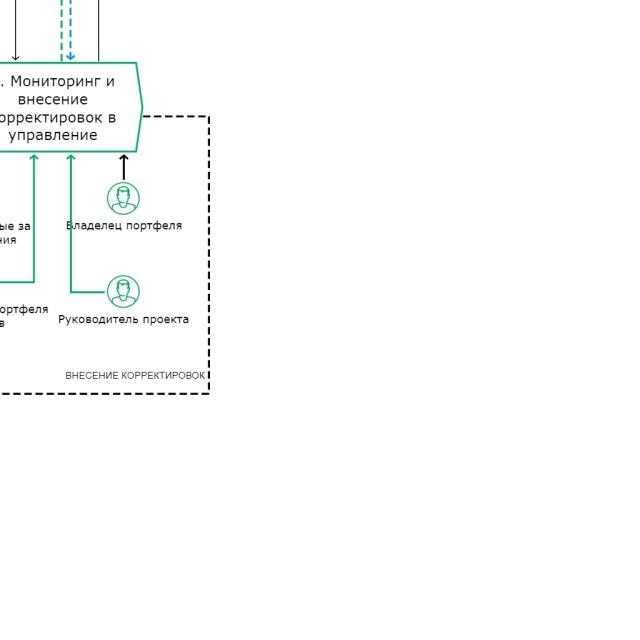arrow: (66, 153, 106, 296), (118, 153, 129, 182)
circle: (101, 269, 146, 314), (106, 181, 141, 216)
text_region: (65, 220, 183, 234), (66, 370, 206, 381), (59, 314, 190, 325)
